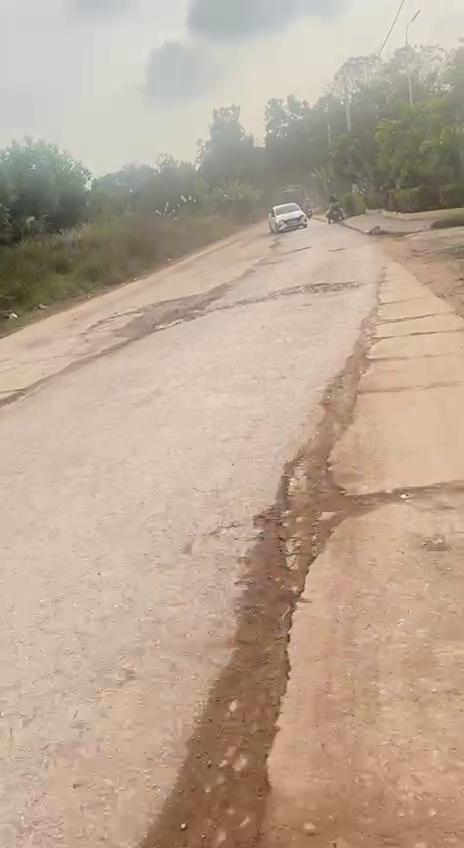pothole: (236, 444, 355, 620)
